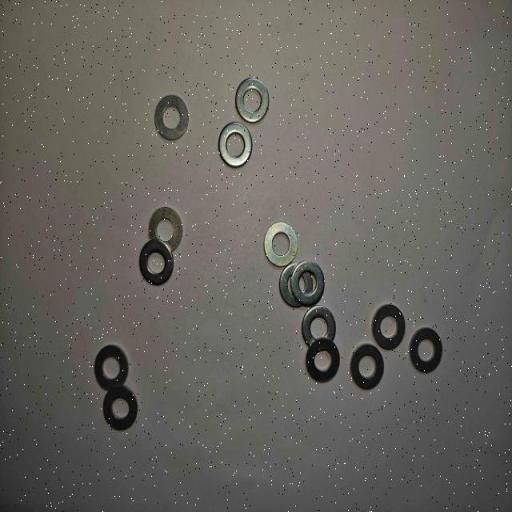washer: (138, 240, 174, 286), (290, 260, 325, 307), (234, 78, 270, 123), (154, 94, 189, 140), (218, 122, 253, 168), (94, 344, 129, 390), (350, 344, 385, 390), (104, 385, 138, 431), (372, 304, 406, 350), (264, 222, 298, 267), (306, 338, 340, 383), (149, 206, 182, 252), (409, 328, 442, 374), (279, 260, 311, 307), (302, 305, 336, 348)
